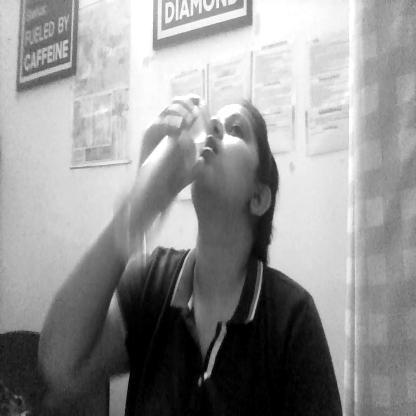Distracted: (195, 98, 261, 236)
